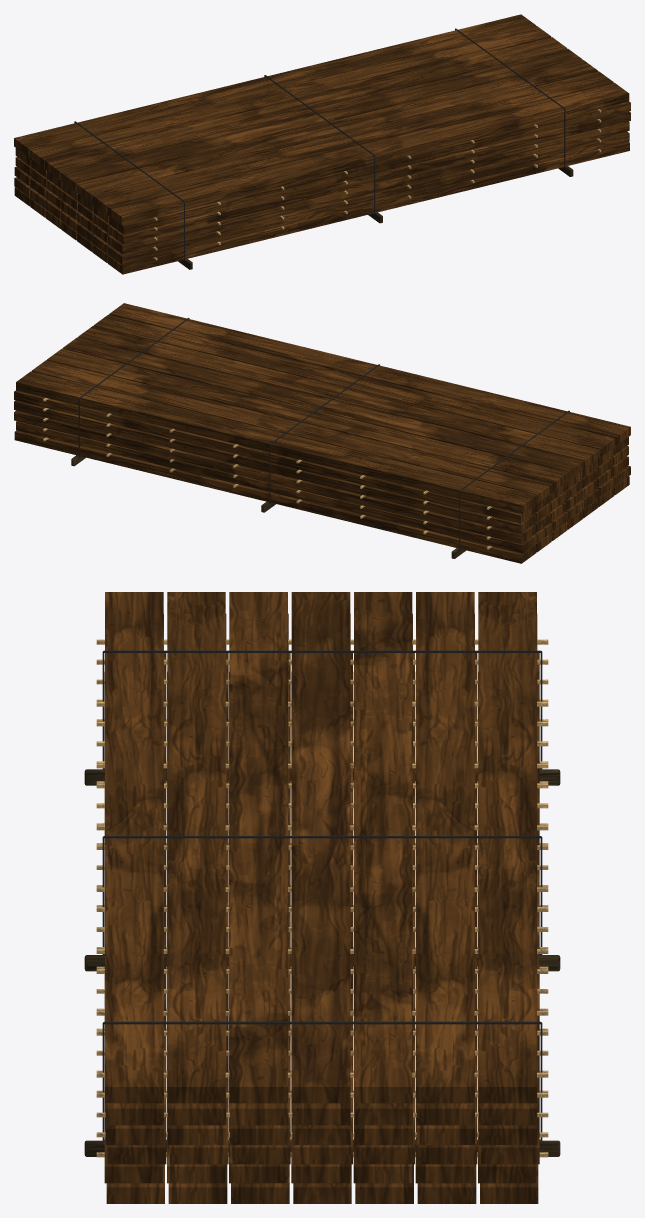
The model's file is C_PlankPile.fbx.
The picture shows the model from 3 angles, top to bottom: view 1: azimuth 30°, elevation 25°; view 2: azimuth 150°, elevation 25°; view 3: azimuth 270°, elevation 25°; orthographic projection. The views are drawn at different scales.
Parts seen in each view (by area): view 1: Plank_01 (×3), Plank_04 (×2), Plank_03 (×2), Plank_07 (×2), Plank_06, Plank_02, Plank_05, Band_03; view 2: Plank_07 (×4), Plank_04 (×2), Plank_06 (×2), Plank_02, Plank_03, Plank_05, Plank_01, Band_01; view 3: Plank_04 (×6), Plank_02 (×6), Plank_06 (×6), Plank_05 (×6), Plank_01 (×6), Plank_07 (×6), Plank_03 (×6), Band_03, Band_01, Band_02.
Part boxes in pixels (x1,y1,x2,y2): Plank_01 (×3): (76, 60, 630, 274); Plank_04 (×2): (60, 48, 629, 264); Plank_03 (×2): (91, 71, 630, 234); Plank_07 (×2): (14, 14, 629, 254); Plank_06: (107, 82, 629, 225); Plank_02: (29, 25, 551, 168); Plank_05: (45, 37, 566, 179); Band_03: (455, 28, 565, 168); Plank_07 (×4): (14, 371, 537, 563); Plank_04 (×2): (14, 337, 584, 543); Plank_06 (×2): (14, 303, 630, 523); Plank_02: (31, 360, 553, 502); Plank_03: (93, 314, 615, 456); Plank_05: (47, 348, 568, 491); Plank_01: (78, 326, 599, 468); Band_01: (459, 410, 569, 550); Plank_04 (×6): (104, 592, 539, 1203); Plank_02 (×6): (167, 592, 474, 1203); Plank_06 (×6): (105, 592, 537, 1203); Plank_05 (×6): (170, 592, 474, 1203); Plank_01 (×6): (105, 592, 352, 1203); Plank_07 (×6): (107, 592, 538, 1203); Plank_03 (×6): (105, 592, 477, 1203); Band_03: (102, 1021, 542, 1140); Band_01: (102, 650, 542, 769); Band_02: (102, 836, 542, 954).
Bounding box in the file's own units: 16.06 × 1.98 × 6.5.
